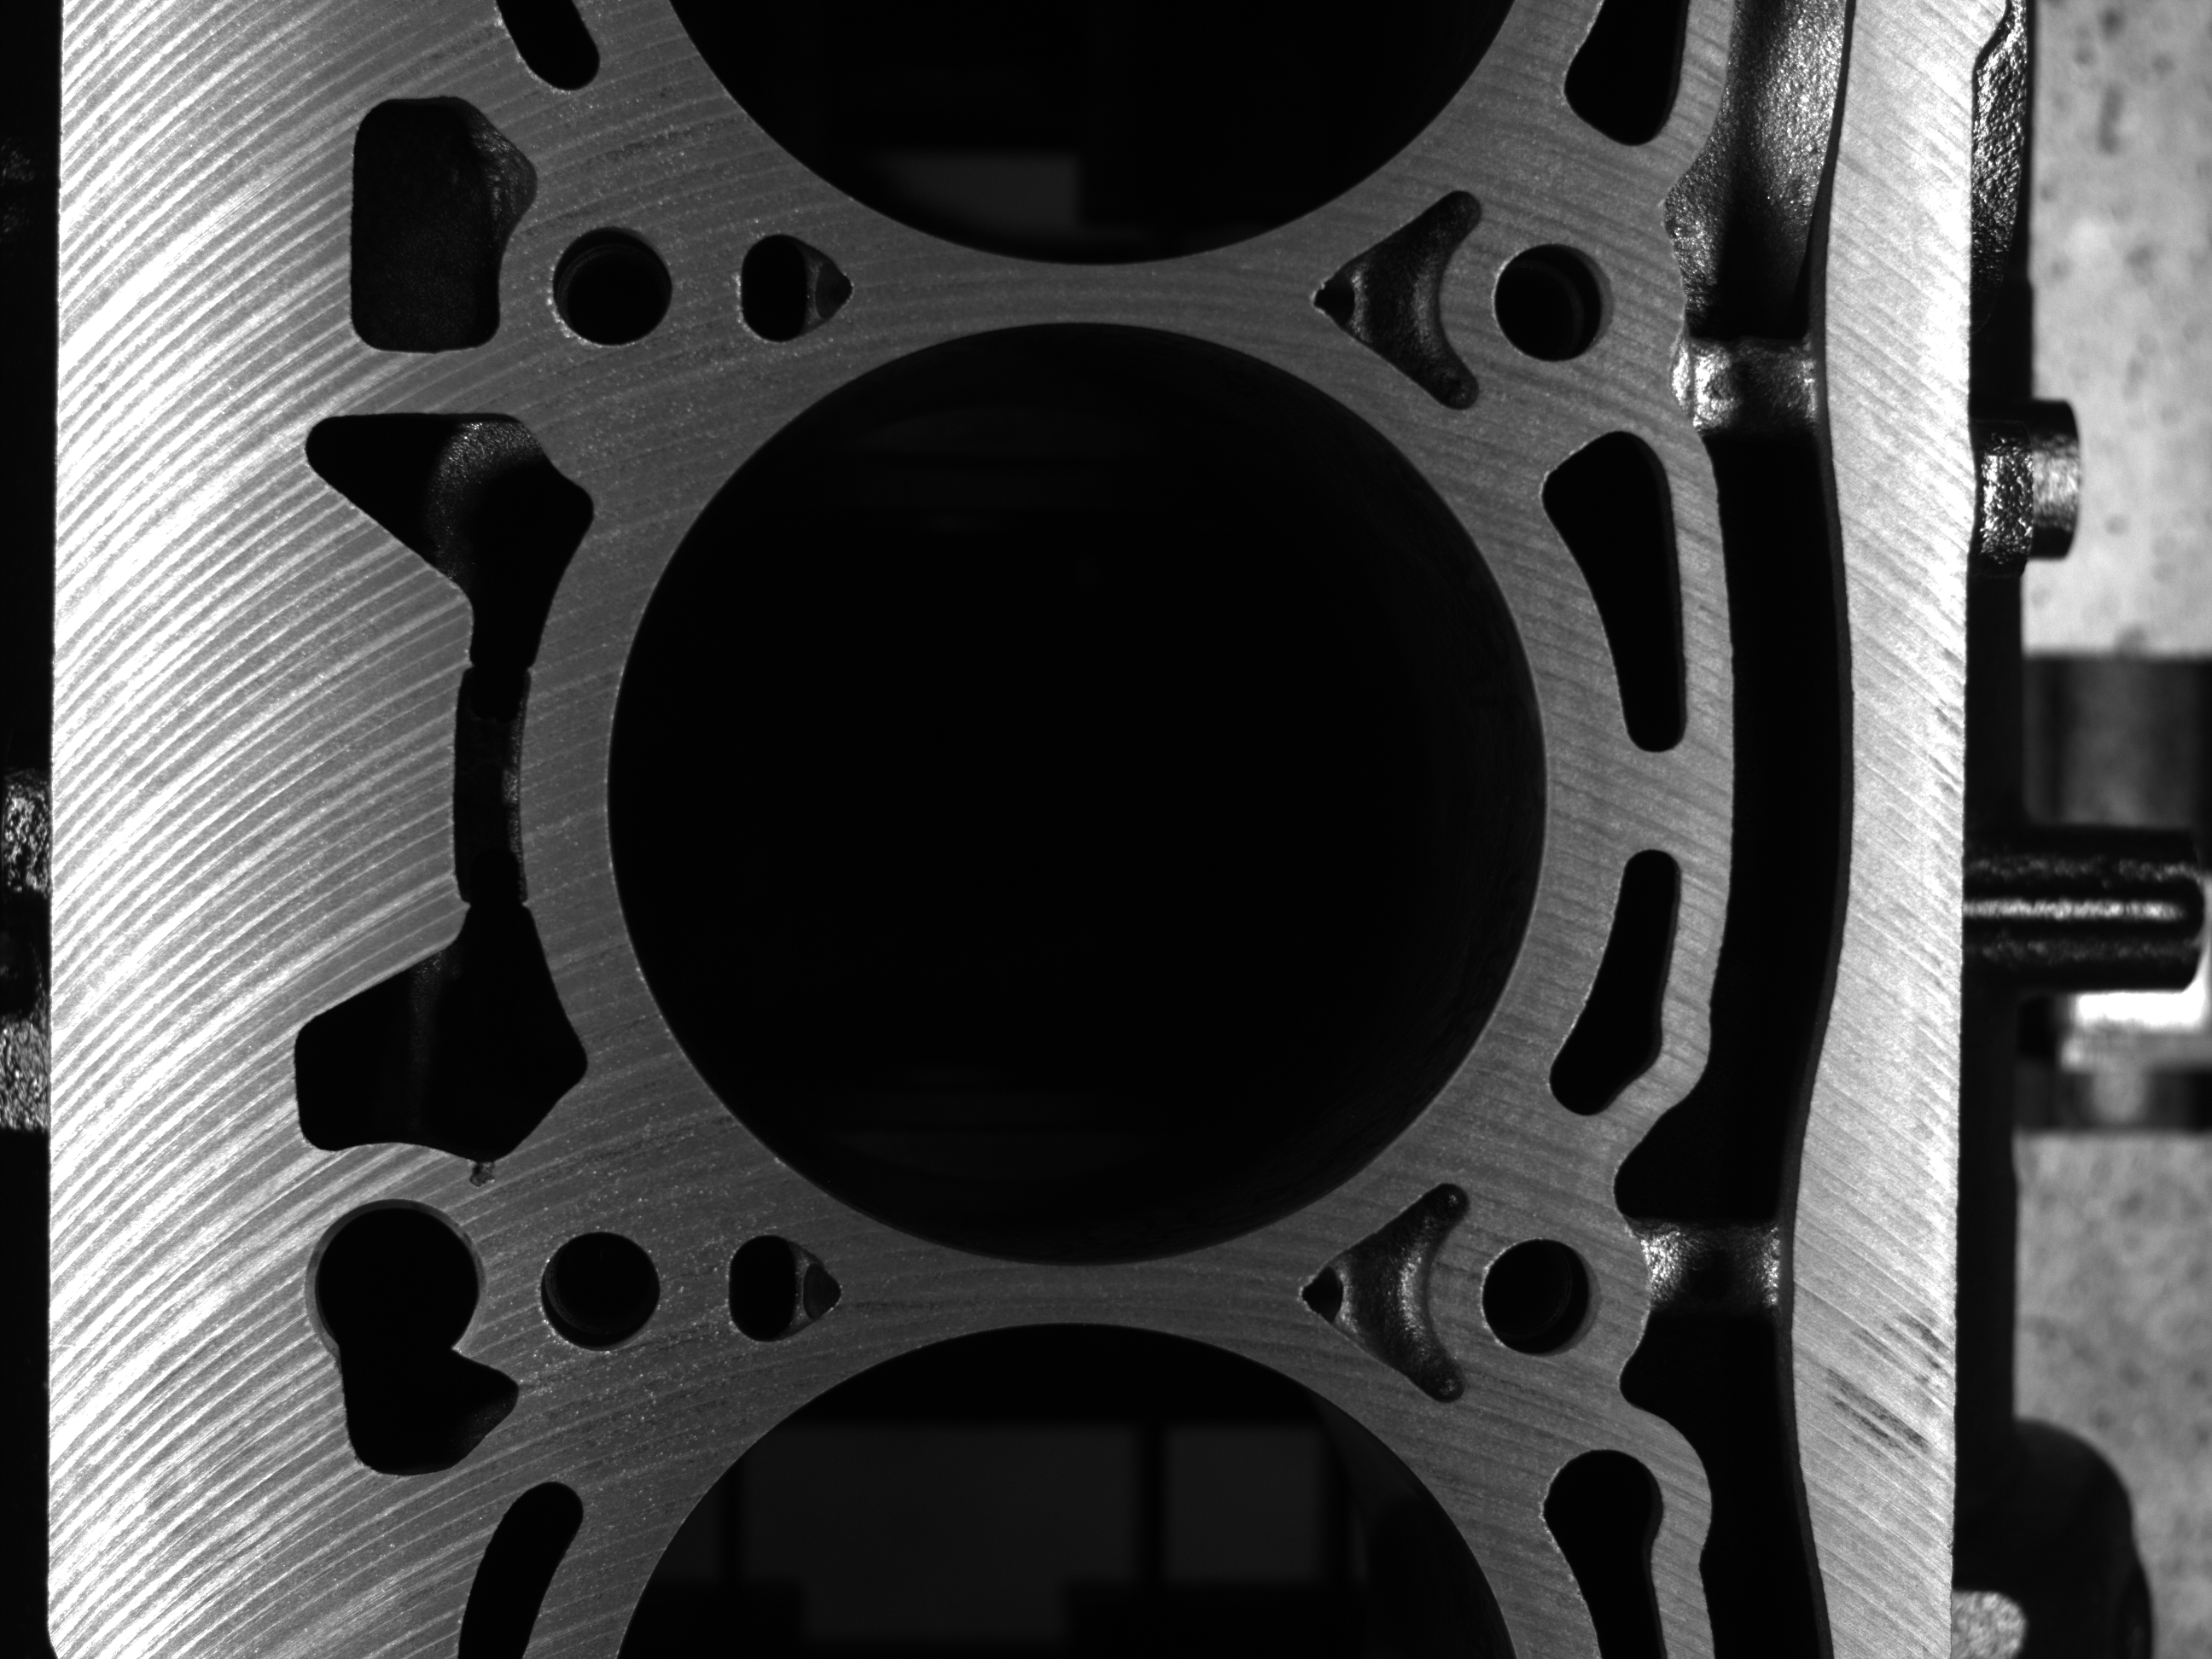sandhole: (456, 1152, 507, 1194)
